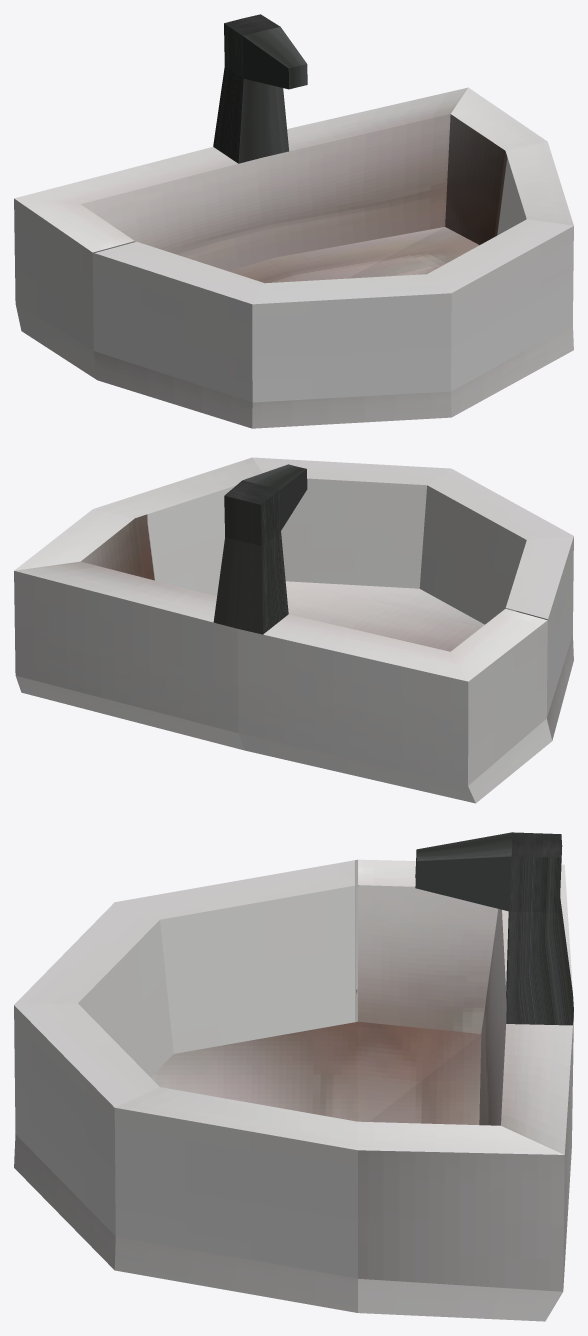
The model's file is sink.fbx.
3 renders of one model, top to bottom at view 1: azimuth 30°, elevation 25°; view 2: azimuth 150°, elevation 25°; view 3: azimuth 270°, elevation 25°, orthographic. The views are drawn at different scales.
Visible parts, largest first — view 1: Sphere; view 2: Sphere; view 3: Sphere.
Part boxes in pixels (x1,y1,x2,y2): Sphere: (14, 14, 573, 428); Sphere: (14, 457, 573, 803); Sphere: (14, 832, 573, 1321).
Size of the model in its own units: 185 by 105 by 150.
